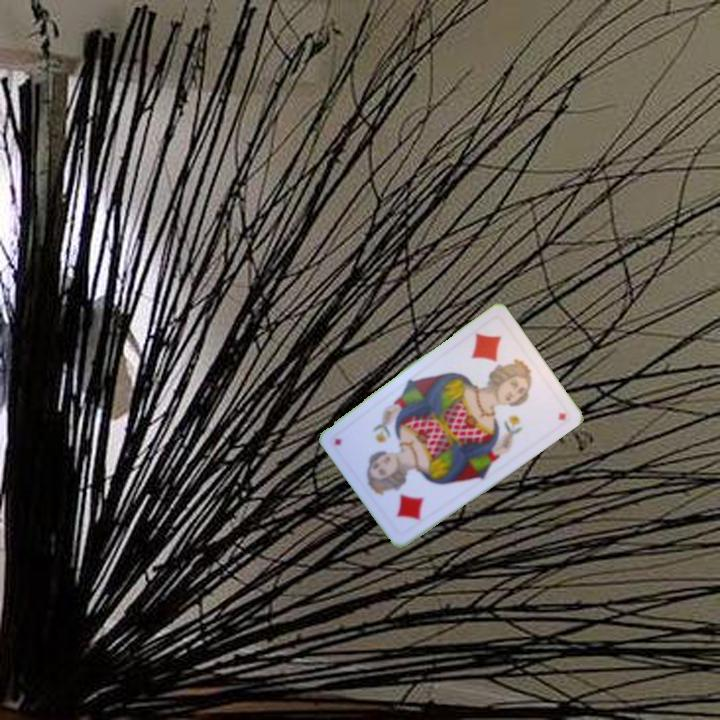d_q.png: (363, 453, 447, 539), (452, 314, 536, 400)
